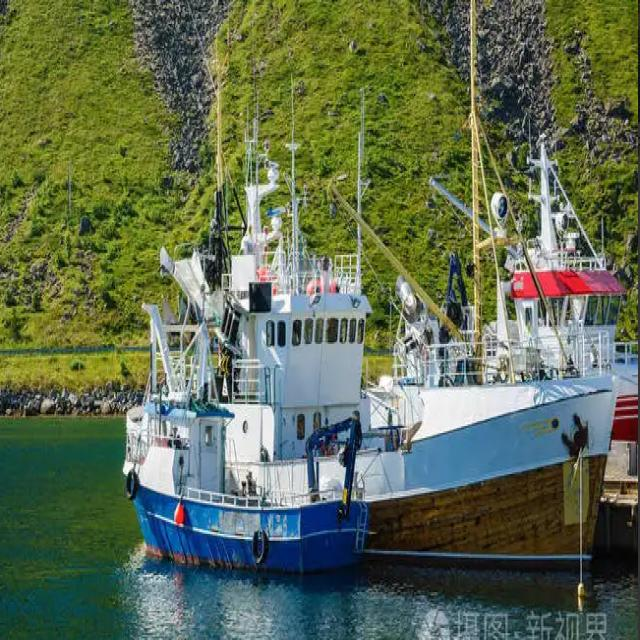fishing boat: (125, 380, 375, 571)
houseboat: (123, 134, 606, 564), (390, 156, 640, 450)
